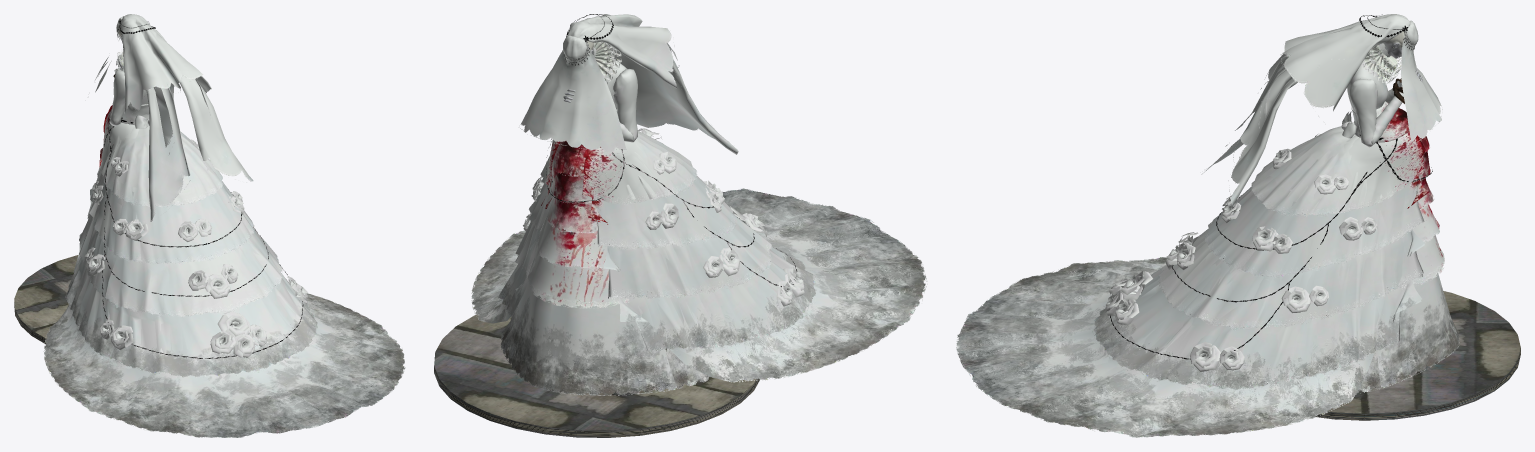
The model's file is yharnam-pthumerian-queen.glb.
3 renders of one model, left to right at view 1: azimuth 30°, elevation 25°; view 2: azimuth 150°, elevation 25°; view 3: azimuth 270°, elevation 25°, orthographic. The views are drawn at different scales.
Parts seen in each view (by area): view 1: 17-bb_17_0, 23-Cylinder.obj, 17-bb_17_1; view 2: 17-bb_17_0, 23-Cylinder.obj, 17-bb_17_1; view 3: 17-bb_17_0, 23-Cylinder.obj, 17-bb_17_1.
Part boxes in pixels (left/top/right/bottom): 17-bb_17_0: left=43, top=14, right=405, bottom=437; 23-Cylinder.obj: left=14, top=255, right=78, bottom=344; 17-bb_17_1: left=102, top=19, right=303, bottom=358; 17-bb_17_0: left=471, top=14, right=927, bottom=395; 23-Cylinder.obj: left=434, top=314, right=760, bottom=437; 17-bb_17_1: left=528, top=14, right=797, bottom=308; 17-bb_17_0: left=956, top=14, right=1459, bottom=437; 23-Cylinder.obj: left=1315, top=291, right=1520, bottom=420; 17-bb_17_1: left=1110, top=14, right=1444, bottom=359.
Size of the model in its own units: 2.7 by 2.4 by 3.62.
3 materials, 3 textured.
